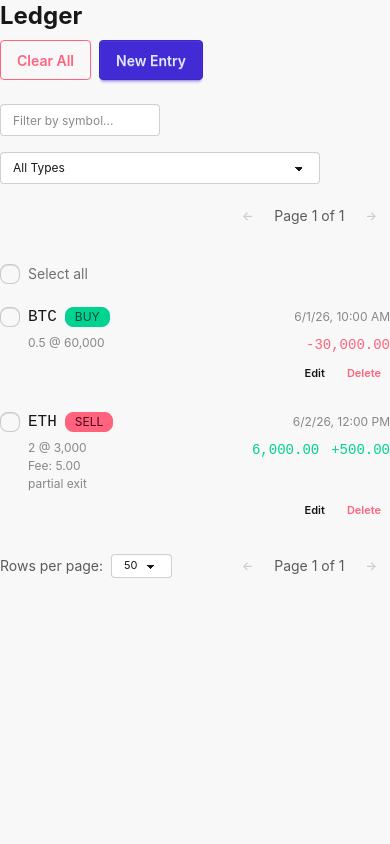
Test: LedgerPage — modal interactions › clicking Delete opens the confirm dialog
Step 1. Click the button "Delete" below "-30,000.00" → (364, 373), box [338,361,389,385]
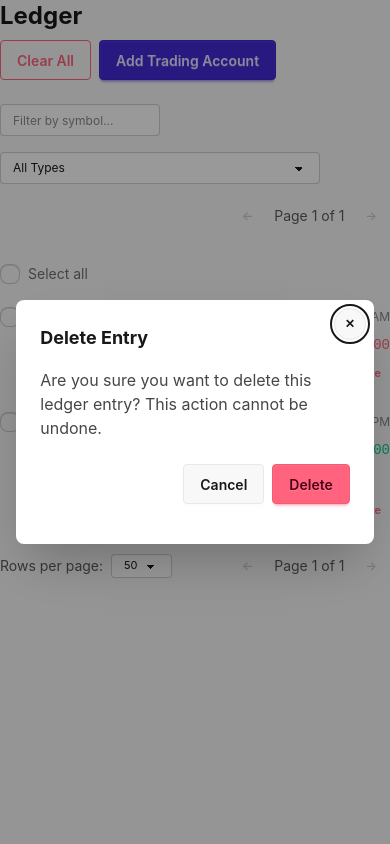
Check: the text "Are you sure you want to delete this ledger entry" is shown, box [40,370,312,438]
